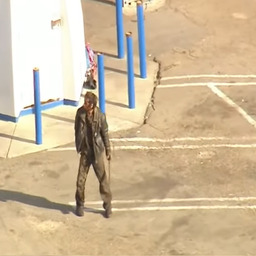person: (74, 91, 113, 218)
